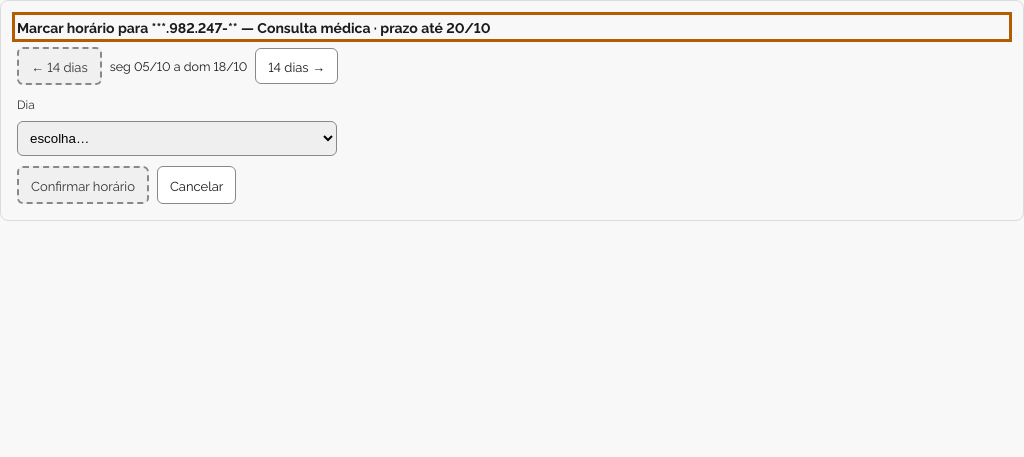
BookPanel › slot_taken recarrega as vagas, avisa e não marca outra
Select "ter 06/10 · 3 vagas" in the dropdown labelled "Dia": [177, 138] box [17,121,337,156]
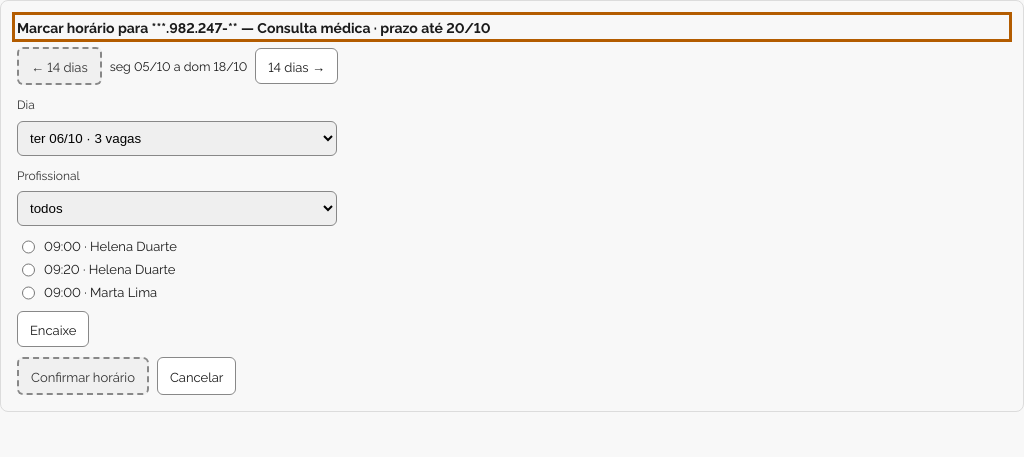
Click the radio button labelled "09:00 · Helena Duarte": [28, 247] box [22,239,35,255]
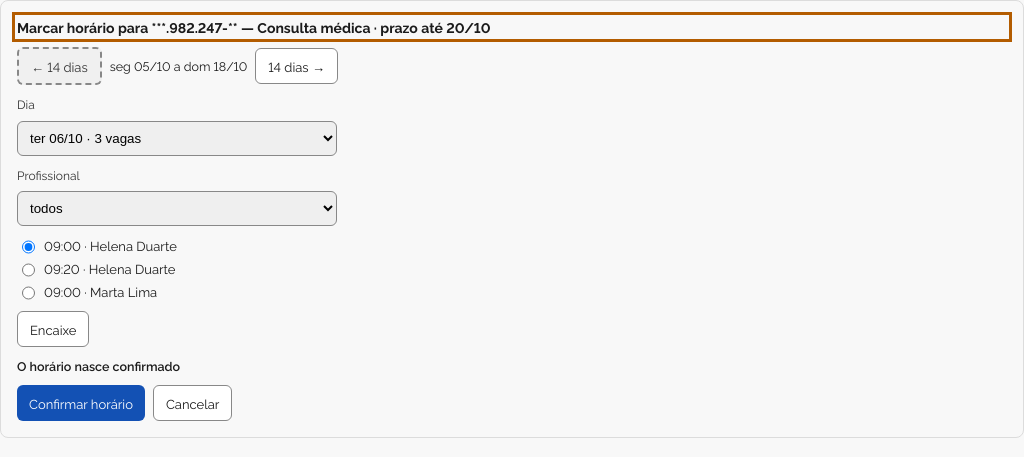
Click the button "Confirmar horário": [81, 403] box [17,385,145,421]
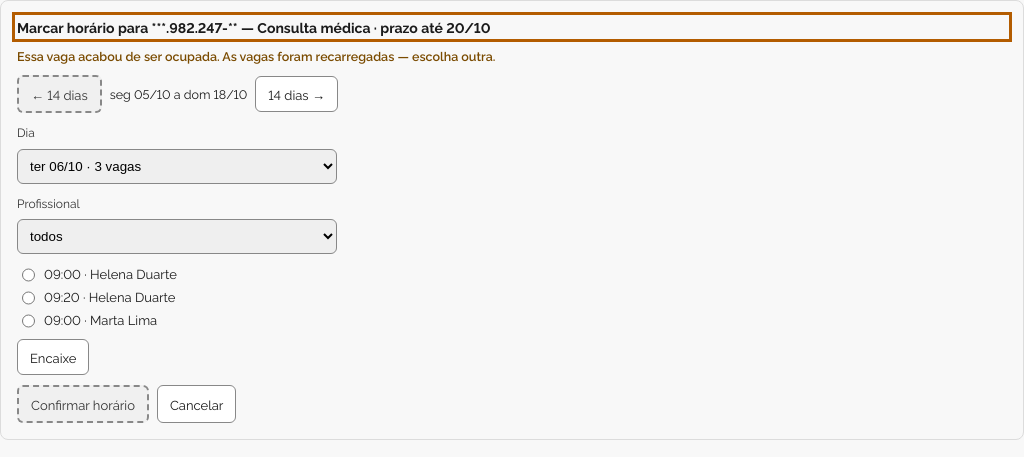
Expected: the text "Essa vaga acabou de ser ocupada. As vagas foram recarregadas — escolha outra." is shown, [17,47,495,64]
Expected: the button "Confirmar horário" is disabled, [17,385,149,423]
